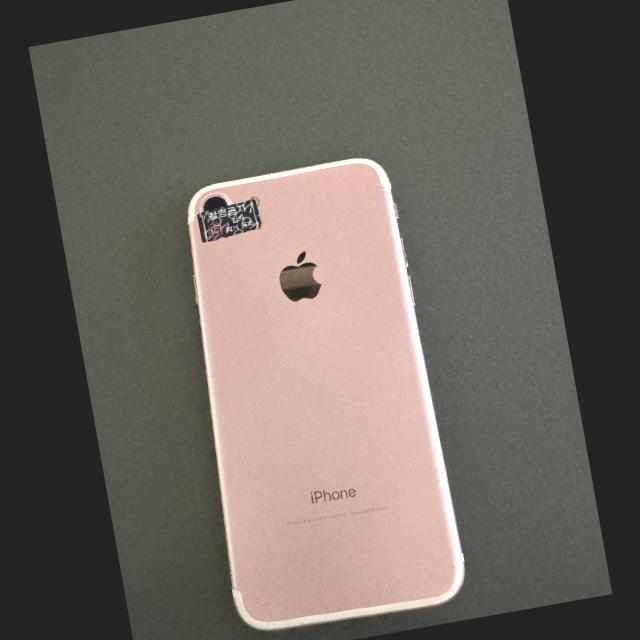lens: (204, 196, 228, 211)
phone: (187, 159, 464, 630)
sticker: (197, 199, 261, 242)
